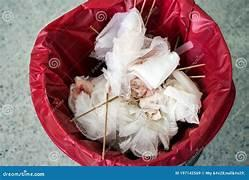cotton: (69, 8, 201, 156), (119, 71, 201, 156), (93, 8, 145, 95), (129, 37, 179, 88), (70, 76, 107, 116)
